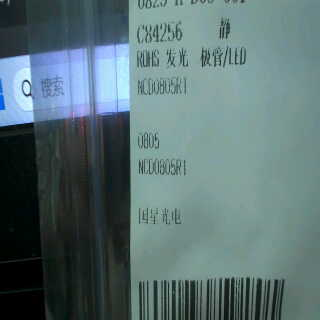LED: (159, 42, 256, 70)
